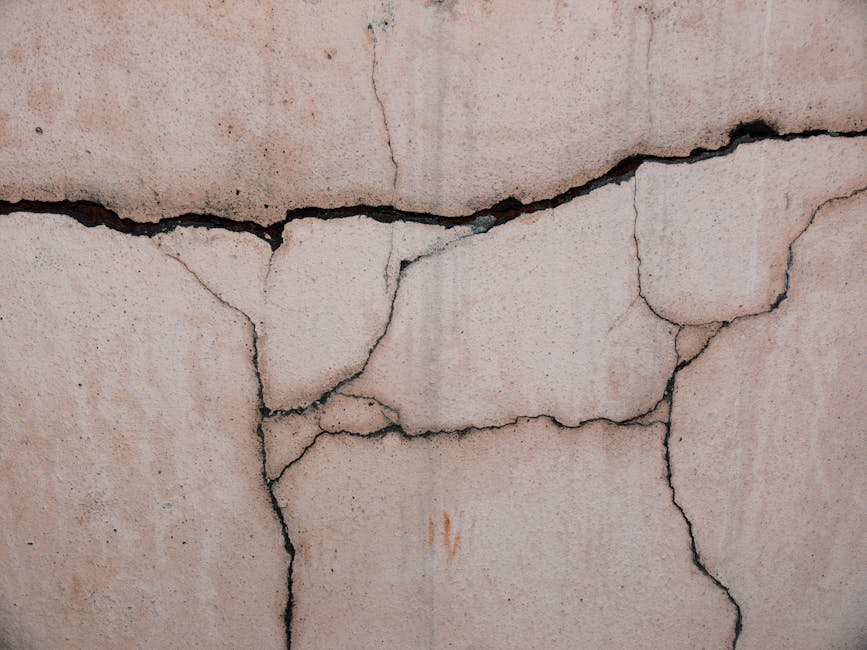深大裂缝: (32, 148, 615, 262), (652, 100, 860, 201)
细微裂纹: (648, 352, 754, 646), (251, 428, 323, 650), (380, 382, 615, 448)
